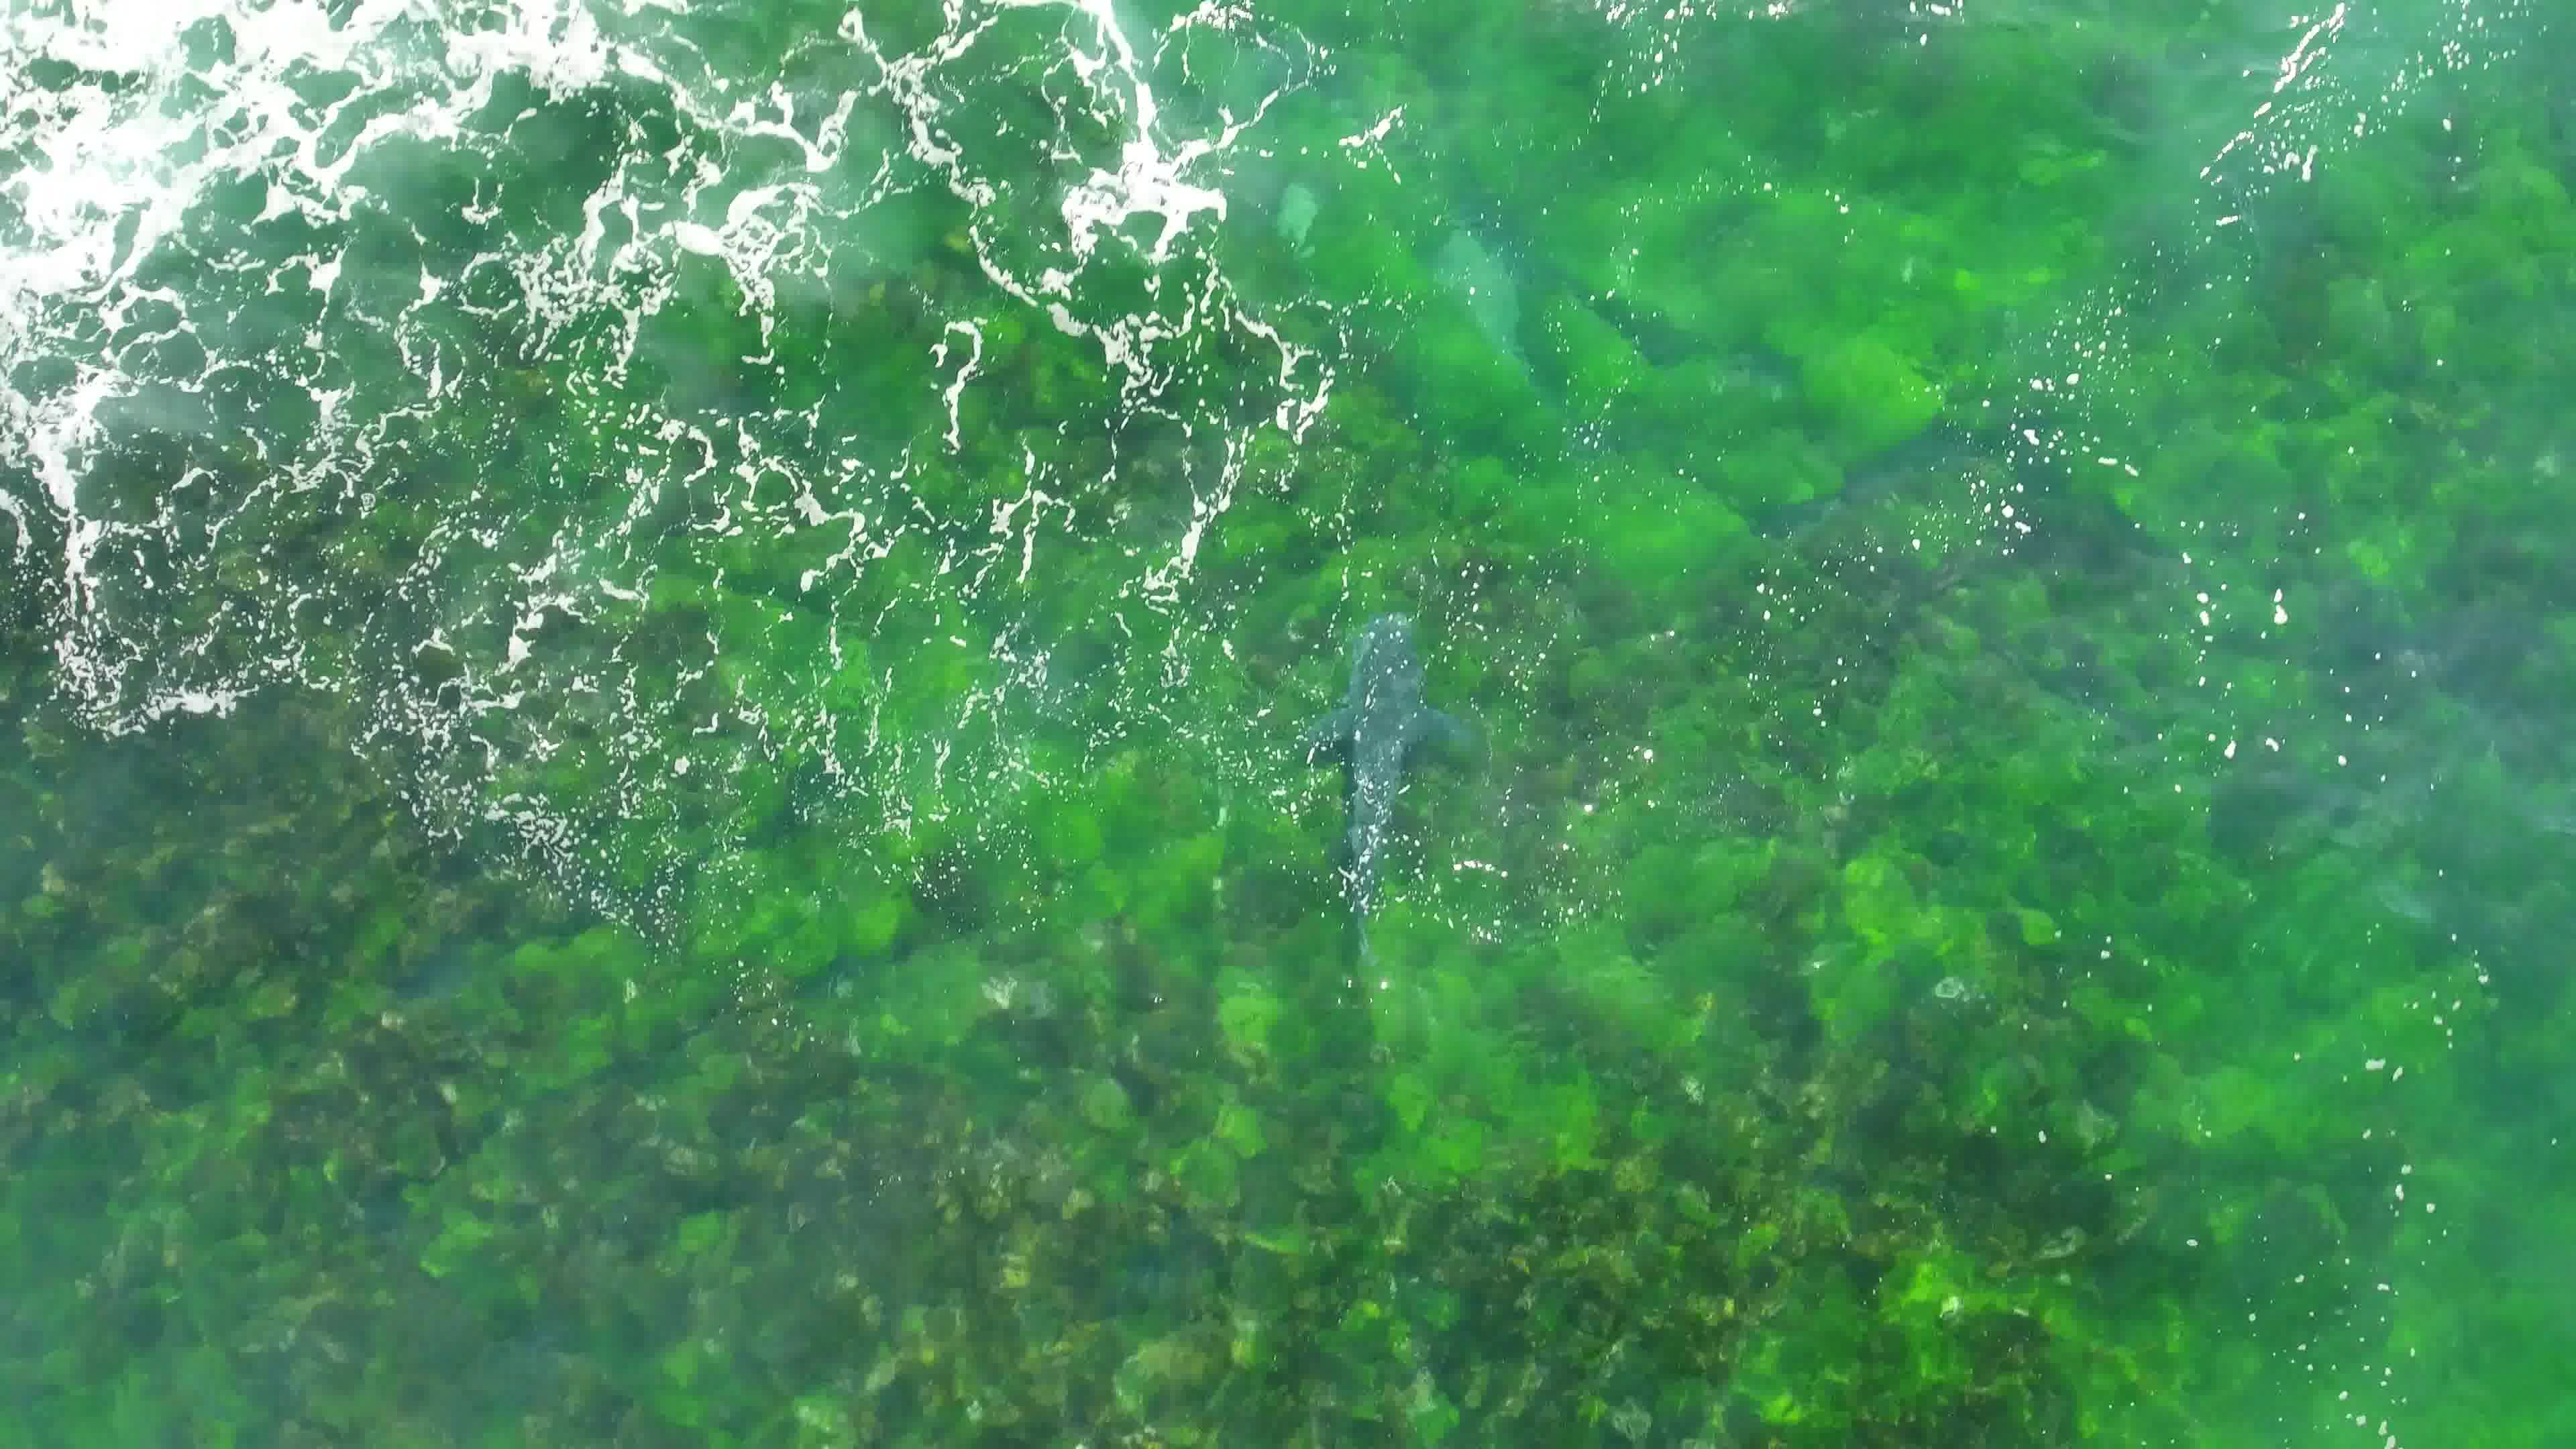shark: (1295, 612, 1477, 932)
